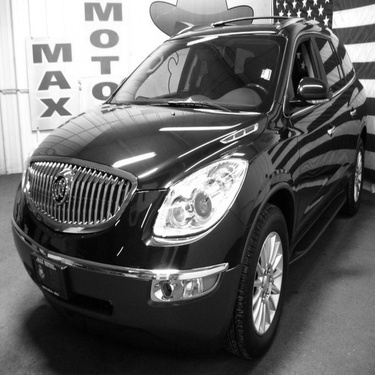car: (7, 9, 370, 367)
